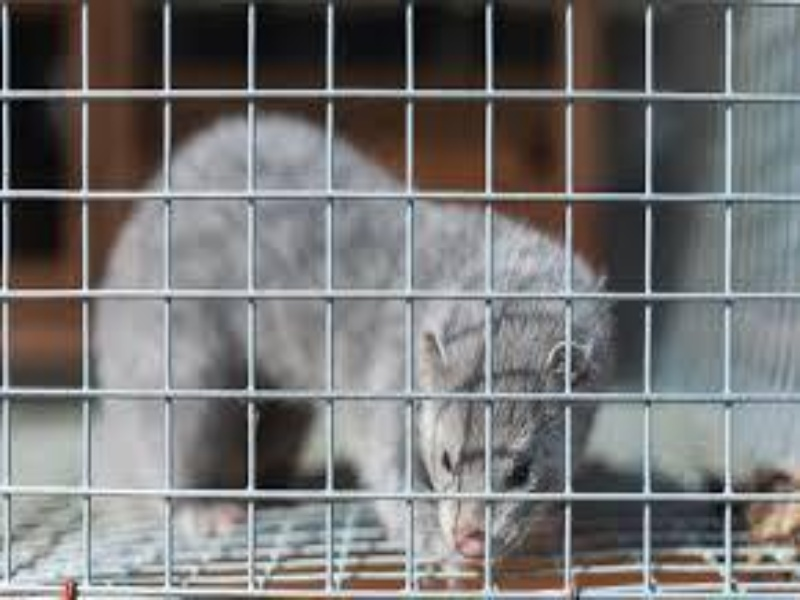minkish: (88, 112, 619, 570)
